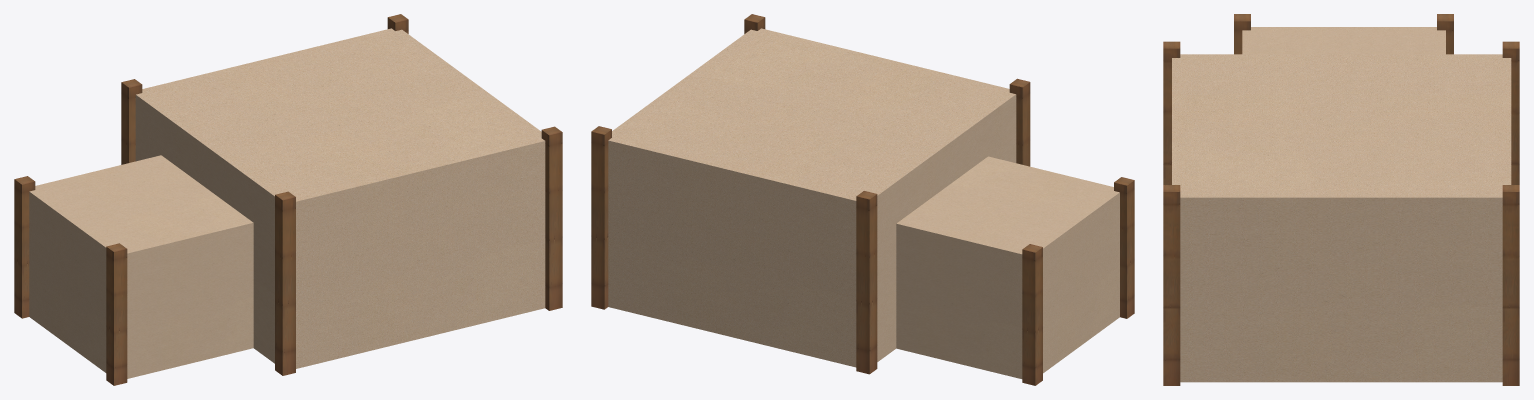
The model's file is House1.FBX.
3 renders of one model, left to right at view 1: azimuth 30°, elevation 25°; view 2: azimuth 150°, elevation 25°; view 3: azimuth 270°, elevation 25°, orthographic. The views are drawn at different scales.
Visible parts, largest first — view 1: Box001, Box002, hasira, hasira001, Box004, Box003, hasira003; view 2: Box001, Box002, hasira003, hasira002, Box003, Box004, hasira; view 3: Box001, Box002, hasira001, hasira002, hasira, hasira003, Box004, Box003.
Part boxes in pixels (x1,y1,x2,y2): Box001: [135, 28, 545, 368]; Box002: [29, 155, 253, 378]; hasira: [275, 191, 295, 375]; hasira001: [541, 126, 562, 310]; Box004: [106, 243, 127, 385]; Box003: [14, 176, 35, 318]; hasira003: [121, 79, 142, 164]; Box001: [608, 28, 1016, 367]; Box002: [896, 156, 1119, 378]; hasira003: [856, 191, 877, 374]; hasira002: [591, 126, 611, 309]; Box003: [1022, 244, 1042, 385]; Box004: [1114, 177, 1134, 318]; hasira: [1009, 78, 1030, 166]; Box001: [1172, 54, 1511, 382]; Box002: [1242, 27, 1445, 54]; hasira001: [1163, 185, 1180, 385]; hasira002: [1502, 185, 1519, 385]; hasira: [1163, 41, 1180, 184]; hasira003: [1502, 41, 1519, 184]; Box004: [1234, 14, 1250, 54]; Box003: [1437, 14, 1453, 54].
Size of the model in its own units: 15.63 by 6.3 by 10.5.
5 materials, 5 textured.
